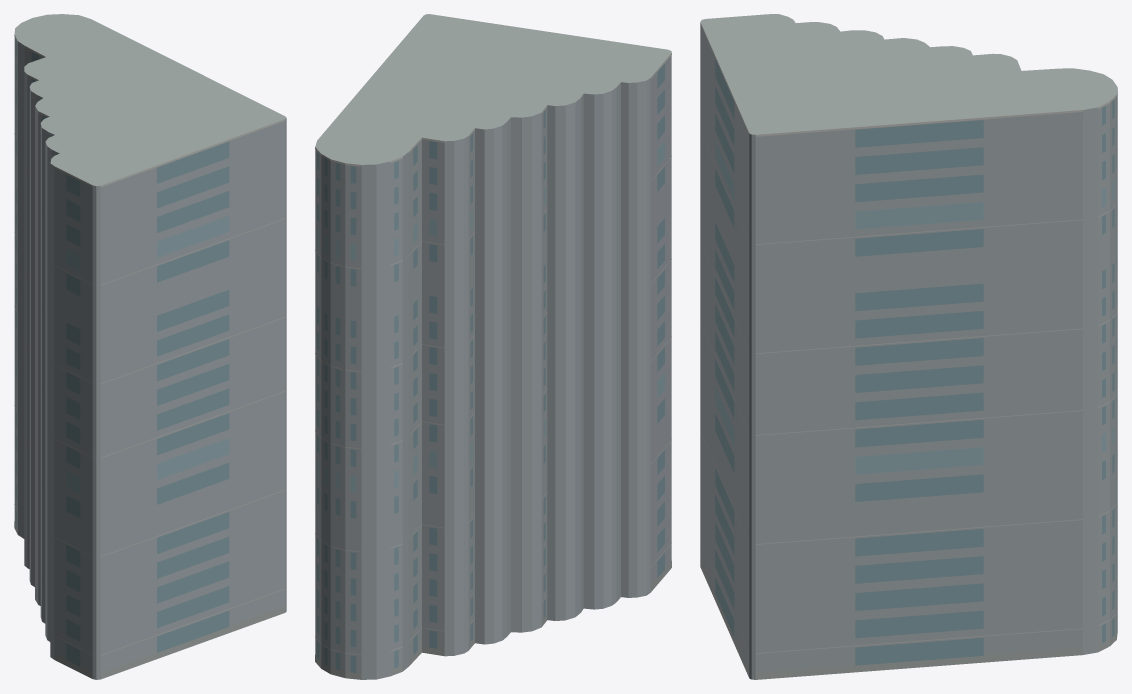
Rendered from survey-upis-32825957.glb.
The picture shows the model from 3 angles, left to right: view 1: azimuth 30°, elevation 25°; view 2: azimuth 150°, elevation 25°; view 3: azimuth 270°, elevation 25°; orthographic projection. The views are drawn at different scales.
Visible parts, largest first — view 1: survey-upis-32825957.tmp; view 2: survey-upis-32825957.tmp; view 3: survey-upis-32825957.tmp.
Part boxes in pixels (x1,y1,x2,y2): survey-upis-32825957.tmp: (14, 14, 286, 679); survey-upis-32825957.tmp: (315, 14, 671, 679); survey-upis-32825957.tmp: (700, 14, 1117, 679).
Size of the model in its own units: 31.41 by 66 by 45.81.
